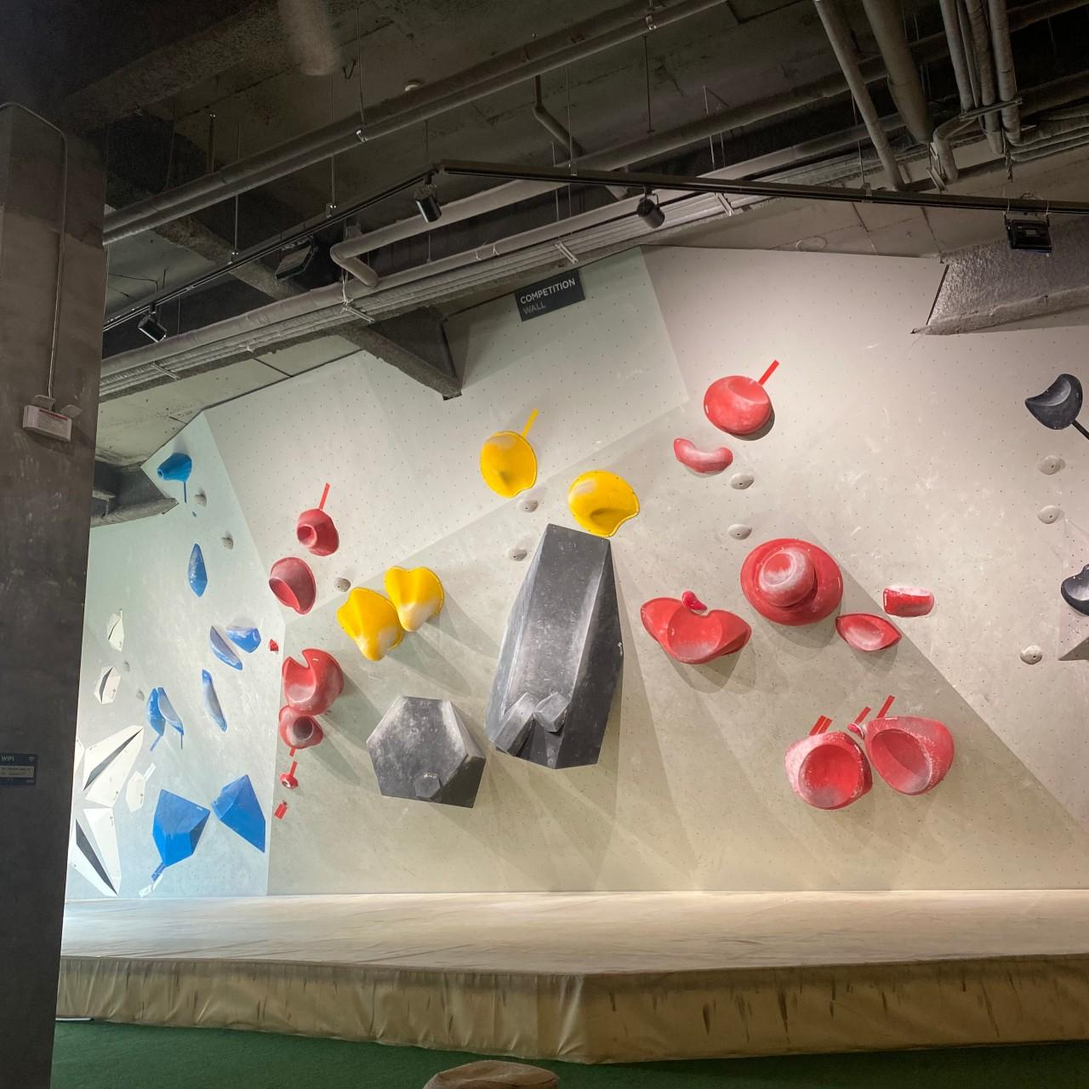hold: (740, 539, 842, 625), (862, 708, 955, 795), (642, 600, 751, 663), (784, 732, 870, 808), (336, 588, 404, 666), (85, 729, 145, 808), (567, 470, 638, 536), (152, 788, 209, 866), (209, 773, 264, 852), (704, 375, 773, 436), (384, 564, 444, 634), (69, 817, 119, 899), (282, 648, 342, 715), (82, 726, 142, 793), (479, 430, 537, 498), (755, 547, 816, 607), (83, 808, 122, 897), (1025, 373, 1082, 430), (269, 557, 316, 614), (837, 613, 901, 651), (674, 438, 733, 472), (278, 704, 322, 749), (297, 510, 338, 556), (882, 584, 934, 616), (209, 626, 242, 671), (1060, 564, 1088, 616), (184, 542, 209, 600), (203, 670, 227, 730), (157, 686, 184, 736), (155, 452, 194, 481), (94, 666, 121, 704), (226, 626, 261, 653), (146, 689, 165, 737), (124, 772, 145, 812), (106, 610, 123, 651), (684, 590, 711, 610), (74, 735, 85, 778), (1037, 505, 1061, 524), (1040, 456, 1064, 474), (727, 523, 752, 540), (1020, 645, 1042, 664), (729, 474, 754, 490), (507, 544, 530, 561), (279, 773, 299, 789), (518, 498, 539, 513), (334, 577, 351, 593), (848, 724, 865, 739), (273, 801, 288, 818), (221, 536, 233, 550), (194, 493, 206, 506), (136, 689, 145, 701), (269, 641, 278, 651), (123, 660, 129, 671), (191, 510, 197, 517)
volume: (485, 522, 627, 770), (365, 695, 488, 807), (1056, 517, 1088, 662)
